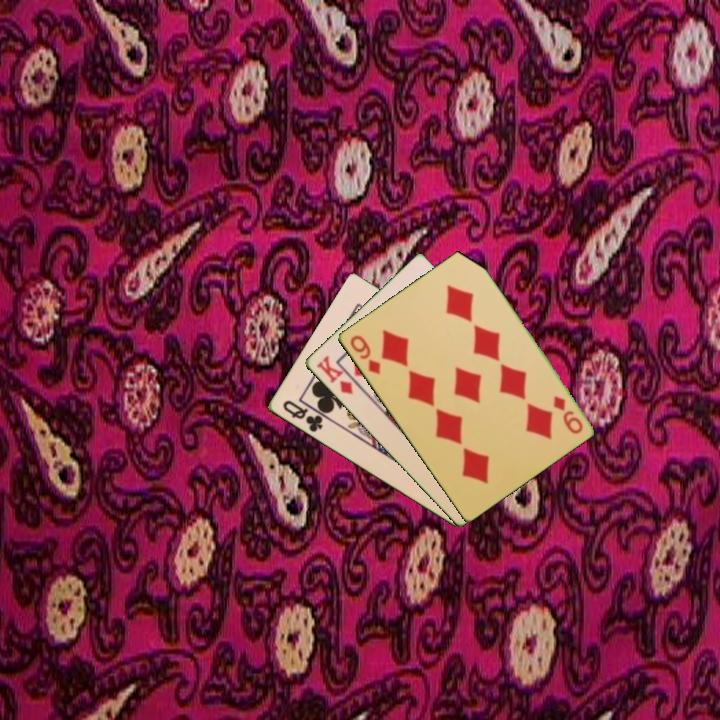9d: (346, 331, 383, 377), (549, 392, 586, 437)
Kd: (312, 352, 356, 397)
Qc: (279, 397, 325, 435)
